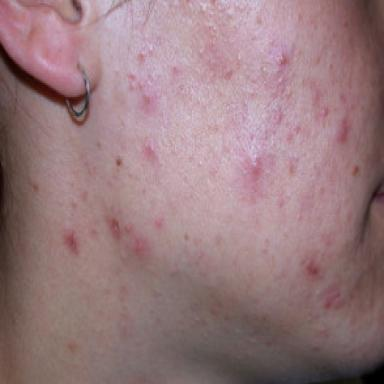acne: (143, 137, 161, 165), (142, 85, 157, 113), (64, 231, 78, 254), (250, 155, 262, 181), (337, 119, 349, 143), (306, 257, 319, 276), (109, 219, 121, 239), (135, 236, 148, 253), (289, 157, 299, 176), (129, 82, 144, 91), (278, 53, 288, 66), (137, 53, 146, 65), (321, 107, 329, 117), (125, 223, 133, 233), (275, 113, 282, 124), (155, 219, 163, 228), (127, 73, 136, 81), (295, 125, 301, 135), (287, 133, 293, 141), (173, 67, 179, 74)
